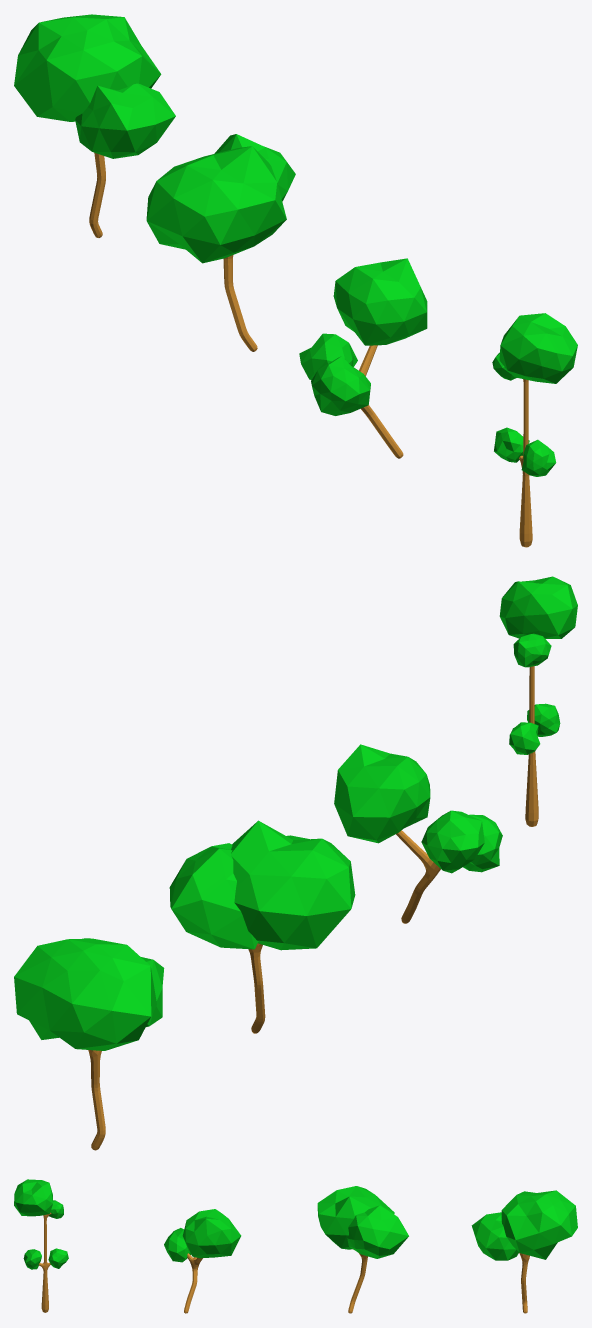
File: tree_2.7.fbx
The picture shows the model from 3 angles, top to bottom: view 1: azimuth 30°, elevation 25°; view 2: azimuth 150°, elevation 25°; view 3: azimuth 270°, elevation 25°; orthographic projection. The views are drawn at different scales.
Parts seen in each view (by area): view 1: Icosphere.004, Icosphere.006, Icosphere, Icosphere.005, Icosphere.010, Icosphere.001, Icosphere.002, Icosphere.003, Cube.003, Icosphere.007, Cube.001, Icosphere.008 (+2 smaller); view 2: Icosphere.006, Icosphere.004, Icosphere, Icosphere.003, Icosphere.010, Icosphere.002, Icosphere.001, Cube.003, Cube, Icosphere.009, Cube.002, Cube.001 (+2 smaller); view 3: Icosphere.006, Icosphere.003, Icosphere.004, Icosphere, Icosphere.005, Icosphere.010, Icosphere.001, Cube.003, Cube, Cube.002, Cube.001, Icosphere.008 (+2 smaller).
Boxes of the visible parts, <box> form: Icosphere.004: <box>146,146,286,263</box>; Icosphere.006: <box>14,14,161,121</box>; Icosphere: <box>333,258,427,345</box>; Icosphere.005: <box>75,83,175,158</box>; Icosphere.010: <box>499,313,577,383</box>; Icosphere.001: <box>311,356,370,415</box>; Icosphere.002: <box>299,333,357,379</box>; Icosphere.003: <box>214,134,295,201</box>; Cube.003: <box>519,379,532,547</box>; Icosphere.007: <box>521,439,556,476</box>; Cube.001: <box>223,255,257,351</box>; Icosphere.008: <box>494,427,529,462</box>; Icosphere.006: <box>14,938,156,1050</box>; Icosphere.004: <box>231,820,355,950</box>; Icosphere: <box>334,744,430,843</box>; Icosphere.003: <box>169,843,258,949</box>; Icosphere.010: <box>499,576,577,638</box>; Icosphere.002: <box>421,810,484,873</box>; Icosphere.001: <box>463,814,502,872</box>; Cube.003: <box>525,666,538,826</box>; Cube: <box>396,830,440,923</box>; Icosphere.009: <box>513,633,551,667</box>; Cube.002: <box>88,1050,105,1150</box>; Cube.001: <box>248,943,265,1033</box>; Icosphere.006: <box>501,1190,577,1259</box>; Icosphere.003: <box>347,1205,408,1258</box>; Icosphere.004: <box>317,1186,394,1249</box>; Icosphere: <box>182,1209,241,1258</box>; Icosphere.005: <box>471,1212,518,1260</box>; Icosphere.010: <box>14,1179,52,1216</box>; Icosphere.001: <box>164,1228,190,1262</box>; Cube.003: <box>38,1212,51,1312</box>; Cube: <box>184,1253,202,1313</box>; Cube.002: <box>519,1252,529,1313</box>; Cube.001: <box>348,1253,367,1313</box>; Icosphere.008: <box>48,1248,68,1268</box>.
Bounding box in the file's own units: 706 × 1000 × 3870.
